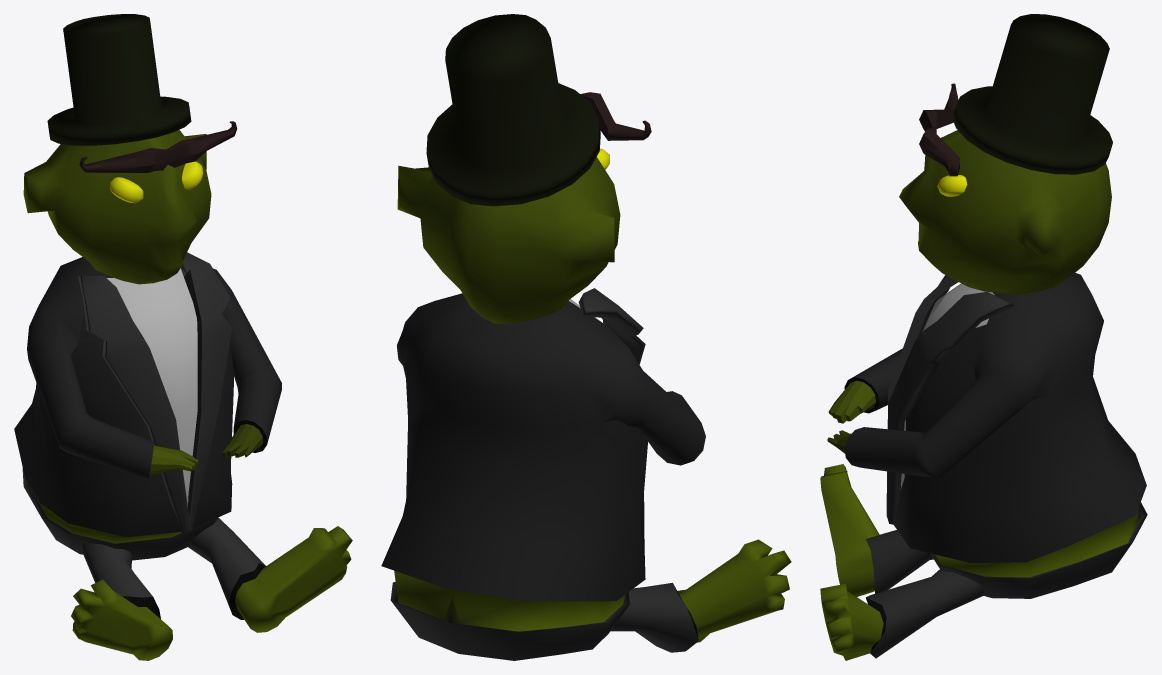
File: AlienGentleman.fbx
3 renders of one model, left to right at view 1: azimuth 30°, elevation 25°; view 2: azimuth 150°, elevation 25°; view 3: azimuth 270°, elevation 25°, orthographic. The views are drawn at different scales.
Visible parts, largest first — view 1: AlienGentleman; view 2: AlienGentleman; view 3: AlienGentleman.
Part boxes in pixels (bbox=[...]): AlienGentleman: bbox=[14, 14, 352, 660]; AlienGentleman: bbox=[381, 14, 791, 660]; AlienGentleman: bbox=[820, 14, 1147, 660].
Size of the model in its own units: 1.71 by 3.36 by 1.65.
